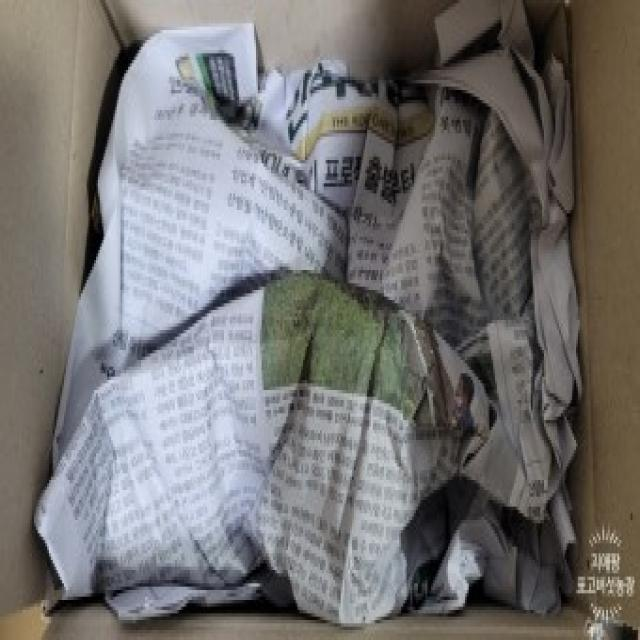Newspaper: (35, 0, 583, 624)
